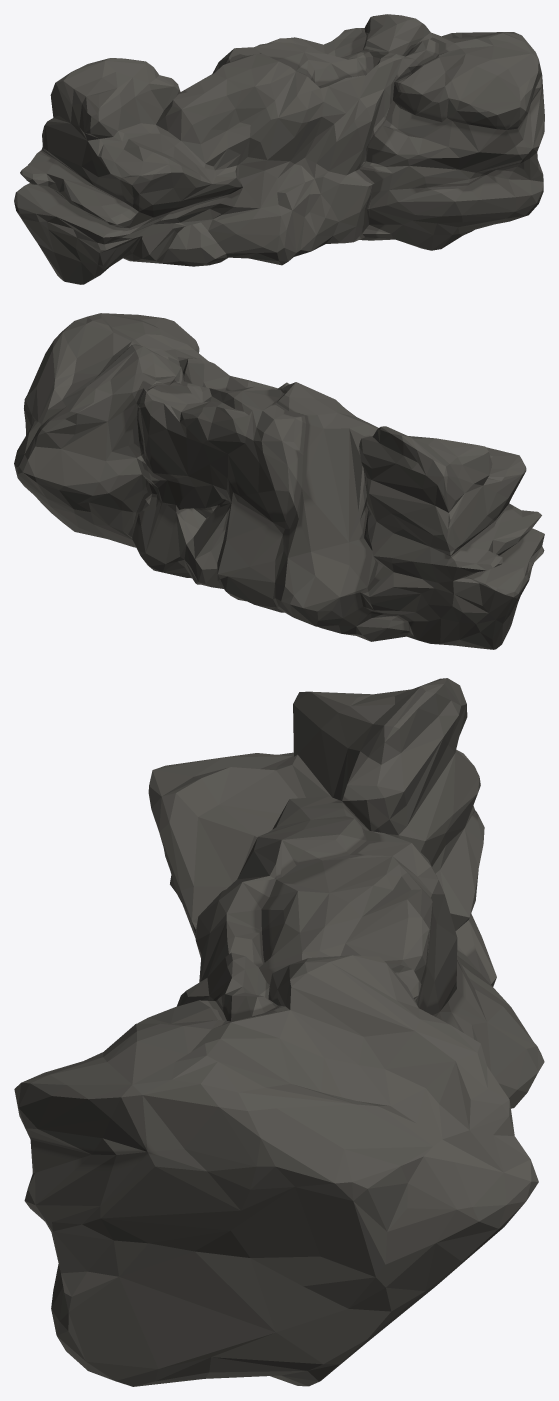
Rendered from SM_Env_Rock_Cliff_02.fbx.
3 renders of one model, top to bottom at view 1: azimuth 30°, elevation 25°; view 2: azimuth 150°, elevation 25°; view 3: azimuth 270°, elevation 25°, orthographic. The views are drawn at different scales.
Parts seen in each view (by area): view 1: SM_Env_Rock_Cliff_02; view 2: SM_Env_Rock_Cliff_02; view 3: SM_Env_Rock_Cliff_02.
Part boxes in pixels (x1,y1,x2,y2): SM_Env_Rock_Cliff_02: (14, 14, 544, 284); SM_Env_Rock_Cliff_02: (14, 313, 544, 649); SM_Env_Rock_Cliff_02: (14, 678, 544, 1386).
Bounding box in the file's own units: 2449 × 1036 × 1206.
Materials: 1 (1 with a texture image).
